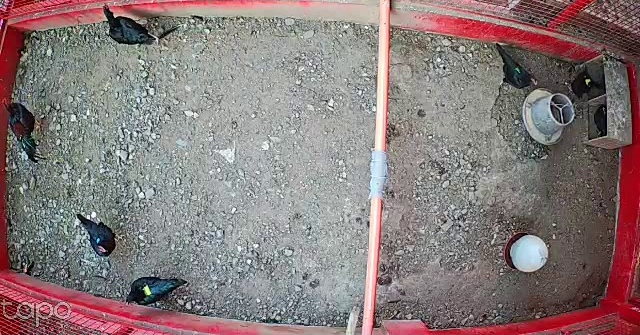Chicken: (97, 0, 164, 49), (123, 270, 192, 307), (494, 43, 540, 91), (75, 211, 120, 259), (559, 65, 599, 103)
Rooster: (2, 96, 48, 169)
Saddle_Color_Blue: (96, 238, 102, 244)
Saddle_Color_Yellow: (142, 284, 152, 296), (582, 77, 592, 86)
